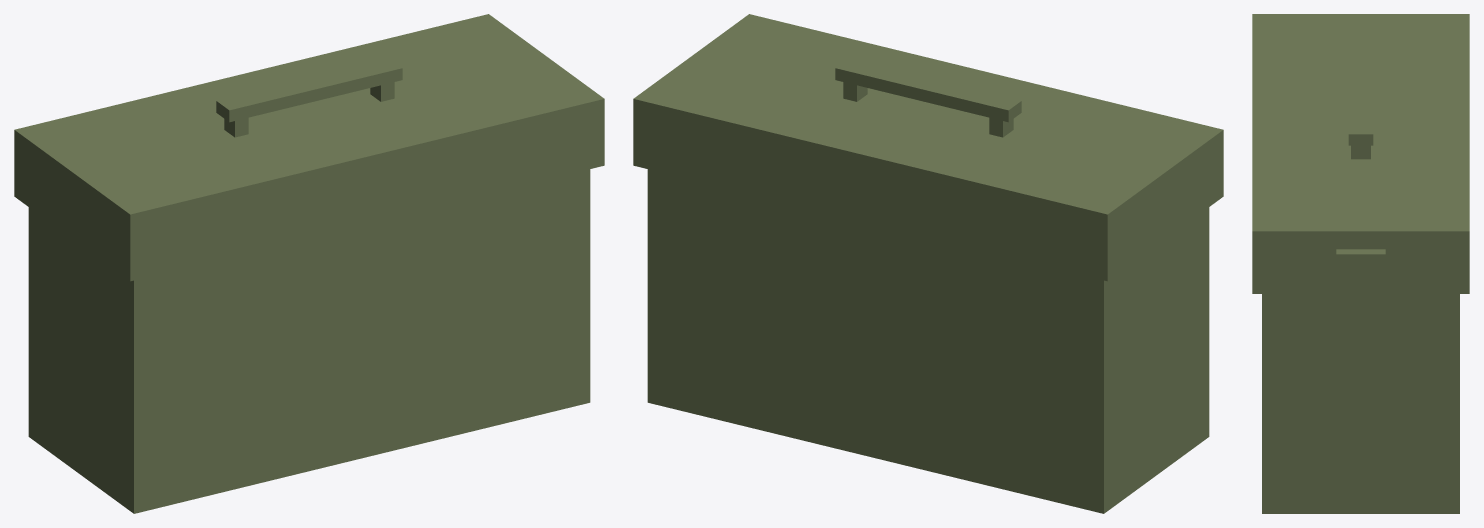
File: CaixaBala.glb
3 renders of one model, left to right at view 1: azimuth 30°, elevation 25°; view 2: azimuth 150°, elevation 25°; view 3: azimuth 270°, elevation 25°, orthographic. The views are drawn at different scales.
Parts seen in each view (by area): view 1: Cuadrat; view 2: Cuadrat; view 3: Cuadrat.
Boxes of the visible parts, x1,y1,x2,y2 form: Cuadrat: (14,14,604,513); Cuadrat: (633,14,1223,513); Cuadrat: (1252,14,1469,513).
Bounding box in the file's own units: 1.06 × 0.7025 × 0.44.
